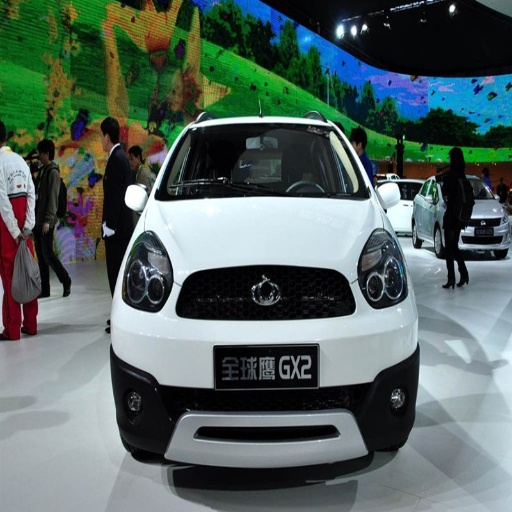front_bumper: (115, 263, 409, 500)
front_right_light: (121, 235, 171, 311)
hood: (149, 196, 379, 278)
